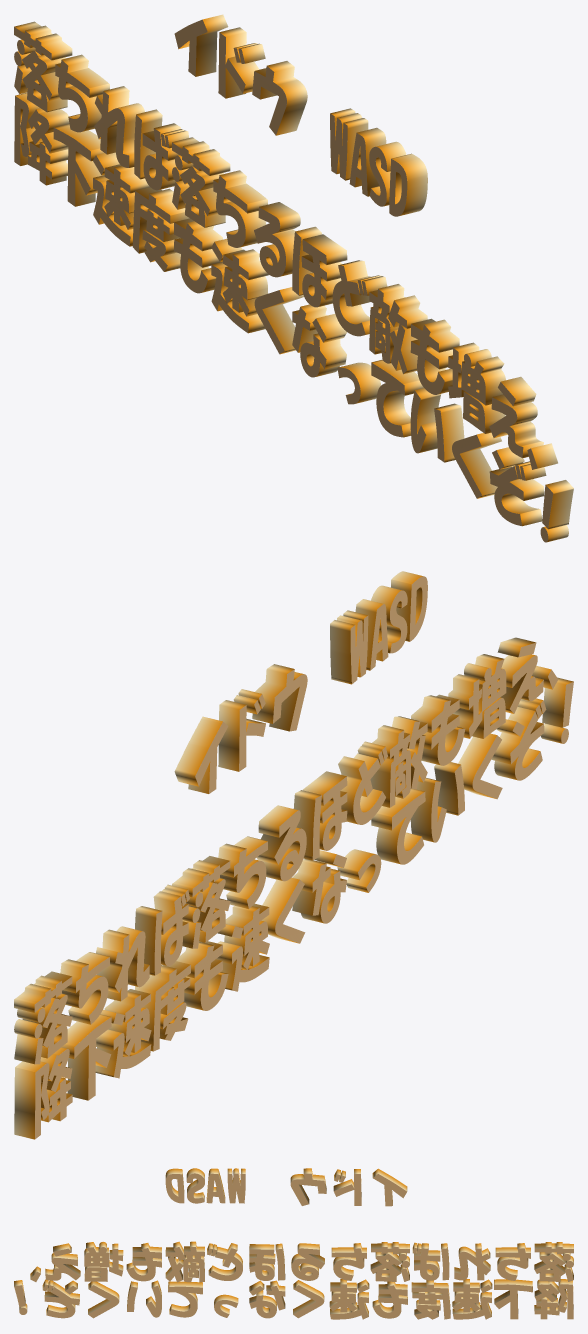
File: Operation_moji.obj
The picture shows the model from 3 angles, top to bottom: view 1: azimuth 30°, elevation 25°; view 2: azimuth 150°, elevation 25°; view 3: azimuth 270°, elevation 25°; orthographic projection. The views are drawn at different scales.
Visible parts, largest first — view 1: テキスト; view 2: テキスト; view 3: テキスト.
Part boxes in pixels (x1,y1,x2,y2): テキスト: [14, 14, 573, 542]; テキスト: [14, 571, 573, 1139]; テキスト: [14, 1168, 573, 1319].
Size of the model in its own units: 0.3 by 3.92 by 13.61.
